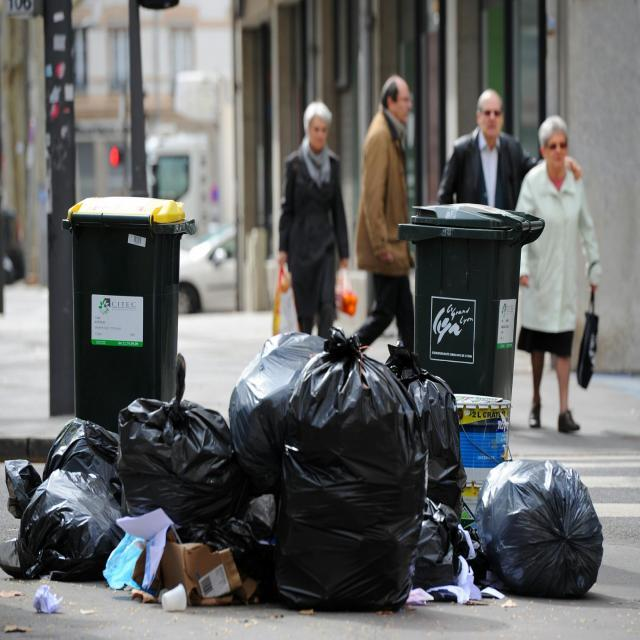garbage: (4, 306, 608, 630)
